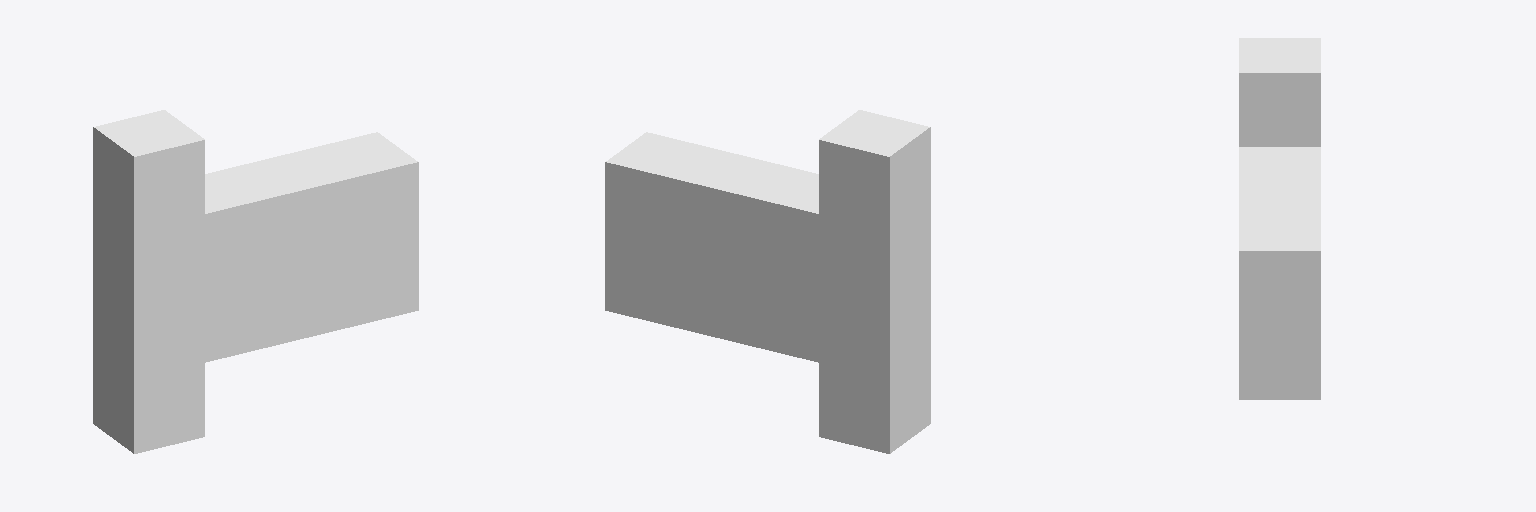
Rendered from MC_WarHead.obj.
The picture shows the model from 3 angles: view 1: azimuth 30°, elevation 25°; view 2: azimuth 150°, elevation 25°; view 3: azimuth 270°, elevation 25°; orthographic projection.
Parts seen in each view (by area): view 1: MC_WarHead; view 2: MC_WarHead; view 3: MC_WarHead.
Boxes of the visible parts, x1=… form: MC_WarHead: x1=93, y1=110, x2=418, y2=453; MC_WarHead: x1=605, y1=110, x2=930, y2=453; MC_WarHead: x1=1239, y1=38, x2=1320, y2=399.
Size of the model in its own units: 4 by 4 by 1.